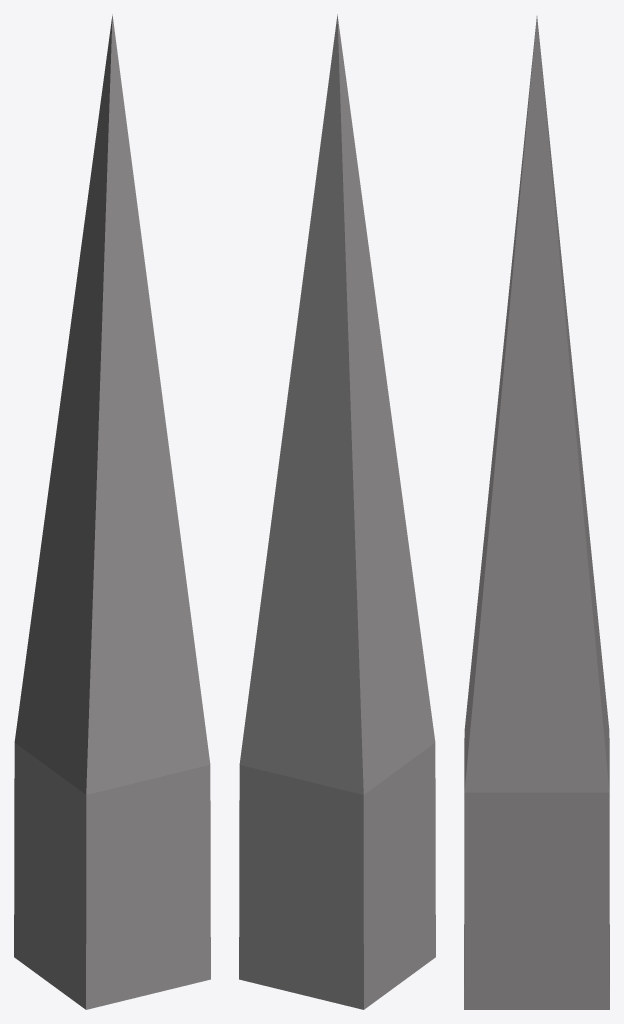
Rendered from MetalSpike_1.fbx.
3 renders of one model, left to right at view 1: azimuth 30°, elevation 25°; view 2: azimuth 150°, elevation 25°; view 3: azimuth 270°, elevation 25°, orthographic.
Parts seen in each view (by area): view 1: MetalSpike_1; view 2: MetalSpike_1; view 3: MetalSpike_1.
Part boxes in pixels (x1=…): MetalSpike_1: x1=14, y1=14, x2=210, y2=1009; MetalSpike_1: x1=239, y1=14, x2=435, y2=1009; MetalSpike_1: x1=464, y1=16, x2=609, y2=1009.
Bounding box in the file's own units: 6.15 × 44.91 × 6.15.
